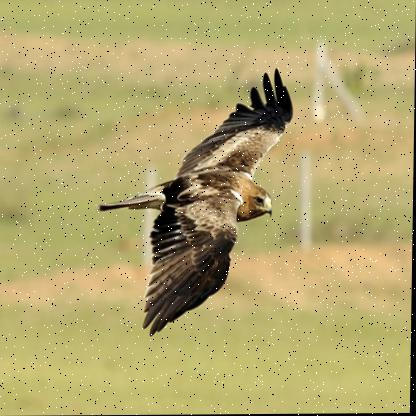Burung: (91, 70, 293, 335)
